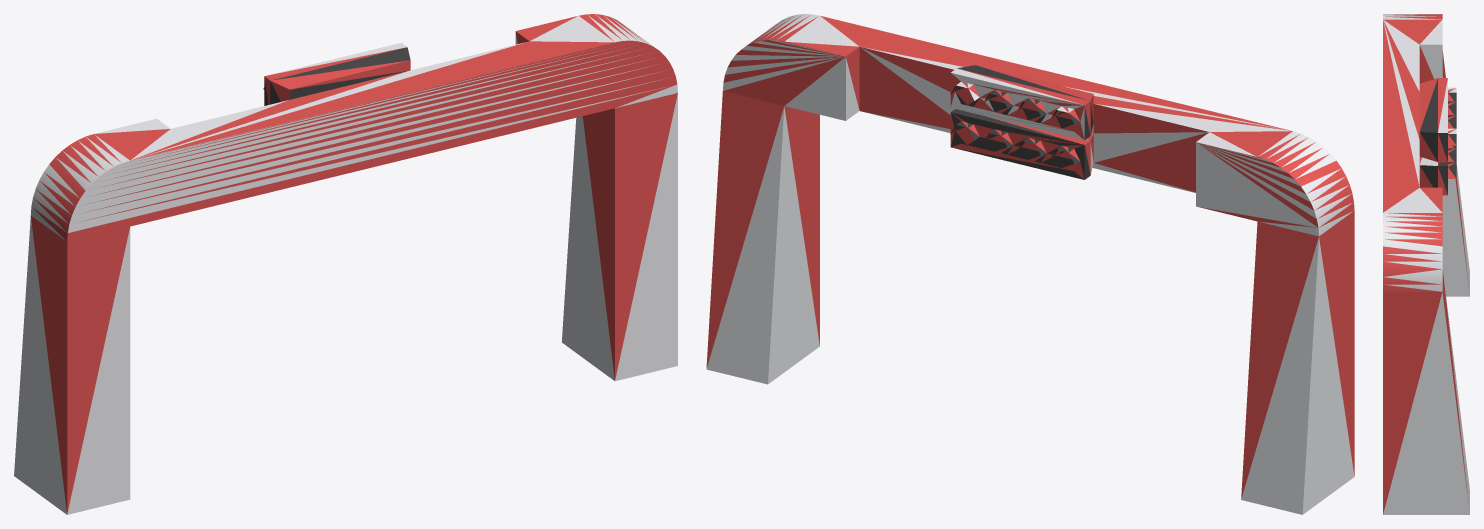
Rendered from overheadLights.glb.
The picture shows the model from 3 angles, left to right: view 1: azimuth 30°, elevation 25°; view 2: azimuth 150°, elevation 25°; view 3: azimuth 270°, elevation 25°; orthographic projection. The views are drawn at different scales.
Visible parts, largest first — view 1: overheadLights; view 2: overheadLights; view 3: overheadLights.
Boxes of the visible parts, x1,y1,x2,y2 form: overheadLights: (14, 14, 677, 514); overheadLights: (706, 14, 1354, 514); overheadLights: (1383, 14, 1469, 514).
Bounding box in the file's own units: 12.6 × 6.94 × 1.9.
